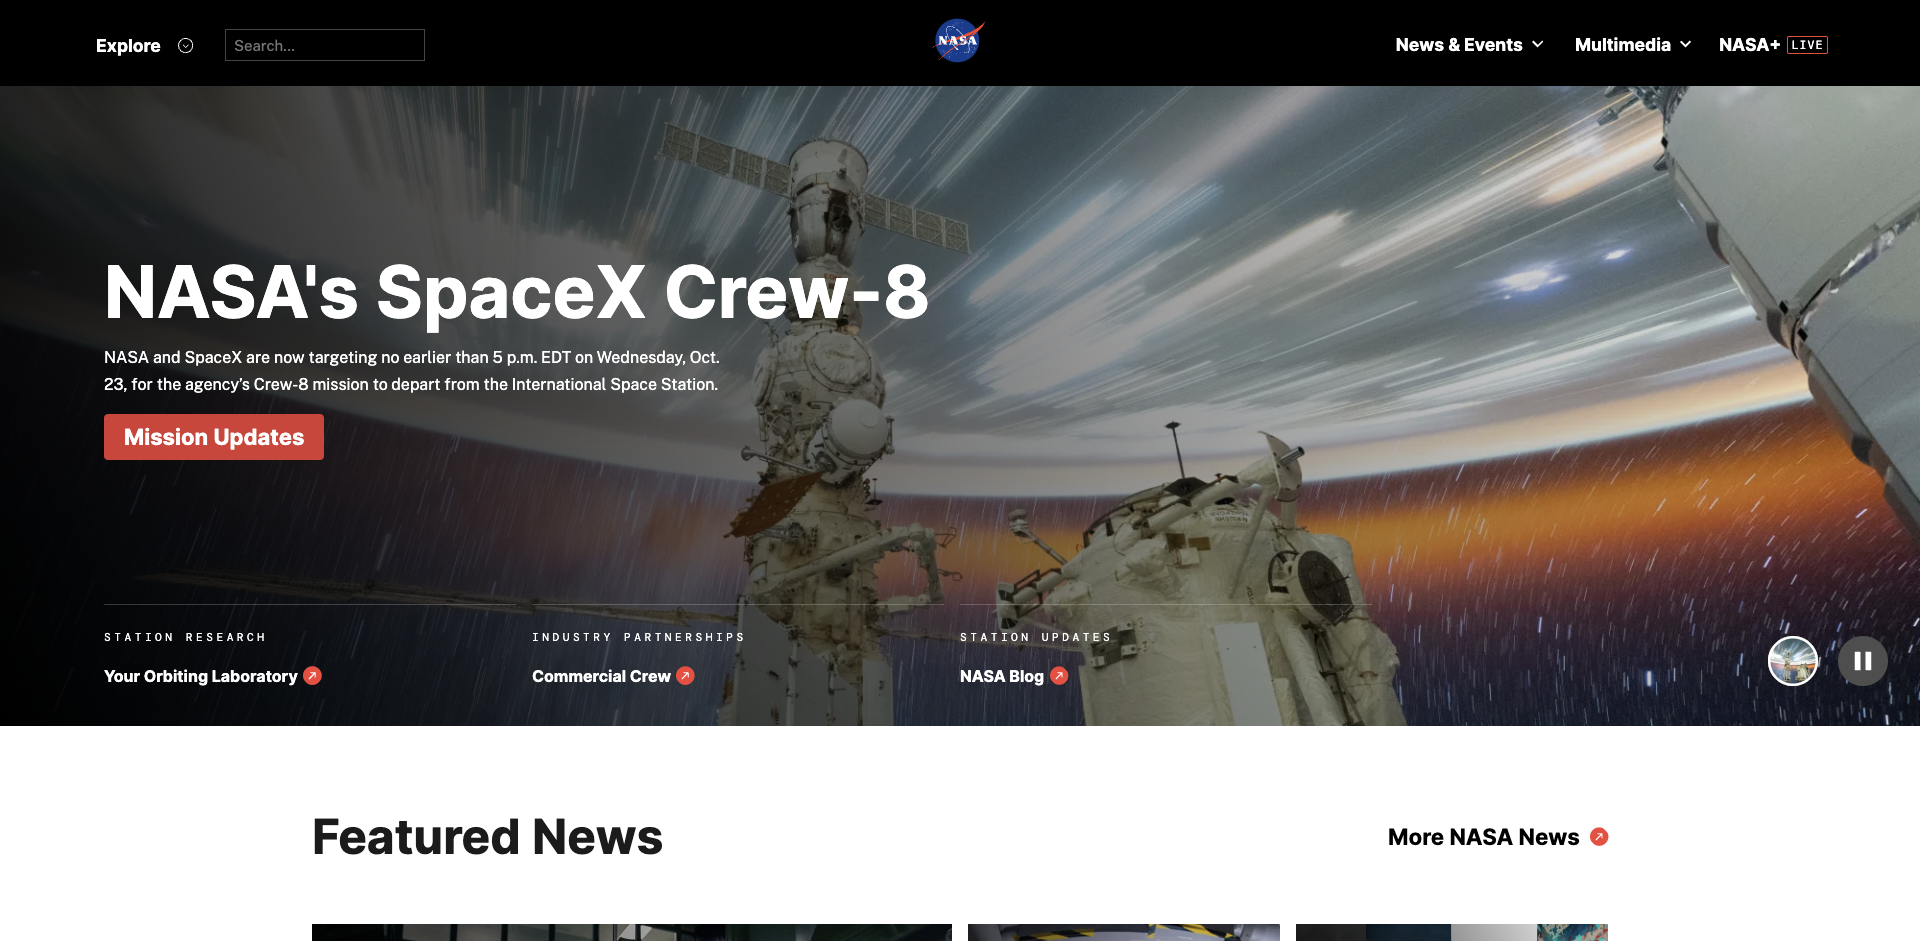button: (104, 414, 324, 461), (1380, 20, 1559, 70), (1559, 20, 1707, 70), (104, 654, 322, 685), (80, 21, 209, 70), (531, 654, 696, 685), (1389, 826, 1608, 848), (960, 654, 1068, 685), (1768, 636, 1818, 686), (1838, 636, 1888, 686), (299, 663, 326, 689), (672, 663, 699, 689), (1586, 823, 1611, 850), (1046, 663, 1071, 689), (72, 114, 88, 130)
input: (225, 29, 425, 61), (48, 102, 64, 142)
link: (312, 924, 951, 941), (1707, 20, 1828, 70), (969, 924, 1296, 941), (1296, 924, 1608, 941), (929, 16, 989, 70)
